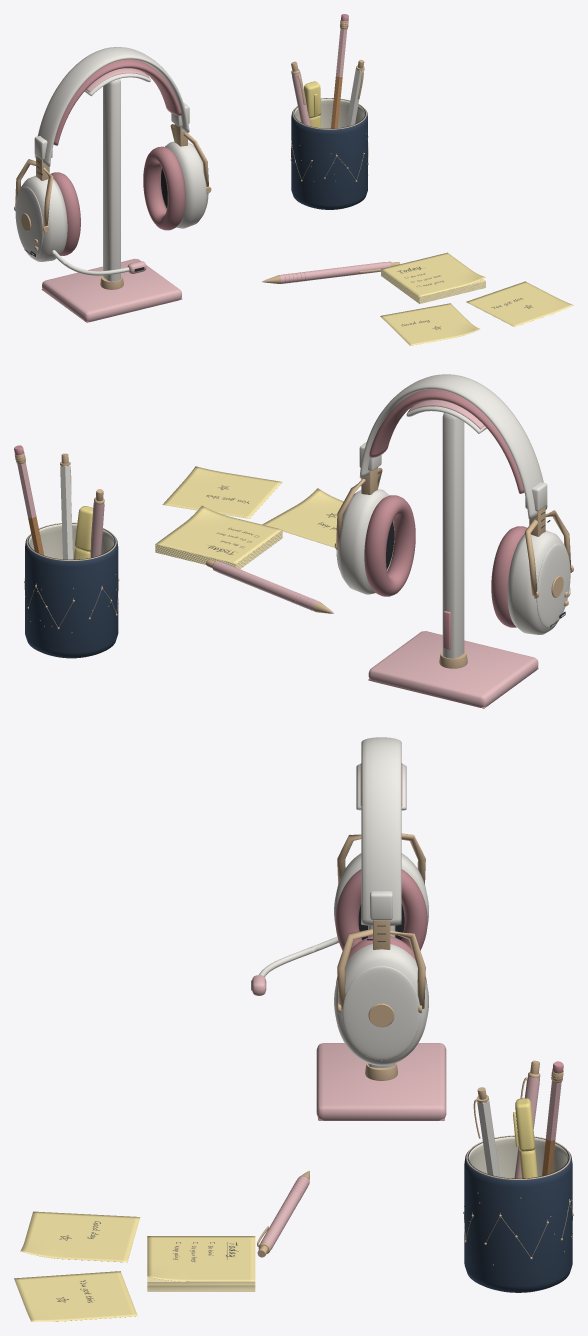
3 views of the same model, one above another, from view 1: azimuth 30°, elevation 25°; view 2: azimuth 150°, elevation 25°; view 3: azimuth 270°, elevation 25° (orthographic). The views are drawn at different scales.
Visible parts, largest first — view 1: D03_Display__D03_Hollow_Ceramic_Vessel, D02_Display__D02_Weighted_Base, D02_Display__D02_Flattened_Upright, D01_Display__D01_Headband_Shell, D01_Display__D01_R_Cushion, D08_Display__D08_Loose_You_Got_This, D08_Display__D08_Top_Curled_Sheet, D08_Display__D08_Loose_Good_Day, D01_Display__D01_L_Acoustic_Housing, D01_Display__D01_R_Acoustic_Housing, D01_Display__D01_Headband_Padded_Underside, D01_Display__D01_L_Inset_Outer_Panel (+7 smaller); view 2: D03_Display__D03_Hollow_Ceramic_Vessel, D02_Display__D02_Weighted_Base, D02_Display__D02_Flattened_Upright, D01_Display__D01_Headband_Shell, D01_Display__D01_R_Cushion, D08_Display__D08_Top_Curled_Sheet, D08_Display__D08_Loose_You_Got_This, D01_Display__D01_L_Acoustic_Housing, D01_Display__D01_R_Acoustic_Housing, D08_Display__D08_Loose_Good_Day, D01_Display__D01_Headband_Padded_Underside, D01_Display__D01_L_Inset_Outer_Panel (+10 smaller); view 3: D03_Display__D03_Hollow_Ceramic_Vessel, D02_Display__D02_Weighted_Base, D01_Display__D01_Headband_Shell, D01_Display__D01_R_Inset_Outer_Panel, D08_Display__D08_Loose_You_Got_This, D08_Display__D08_Loose_Good_Day, D08_Display__D08_Top_Curled_Sheet, D01_Display__D01_R_Acoustic_Housing, D01_Display__D01_L_Cushion, D01_Display__D01_R_Swivel_Yoke, D04_Loose_Pen_Instance__D04_Barrel, D01_Display__D01_L_Acoustic_Housing (+3 smaller).
Part boxes in pixels (<box>): D03_Display__D03_Hollow_Ceramic_Vessel: <box>291,98,367,209</box>; D02_Display__D02_Weighted_Base: <box>42,258,181,322</box>; D02_Display__D02_Flattened_Upright: <box>103,78,120,281</box>; D01_Display__D01_Headband_Shell: <box>34,47,189,166</box>; D01_Display__D01_R_Cushion: <box>143,146,185,230</box>; D08_Display__D08_Loose_You_Got_This: <box>466,281,573,326</box>; D08_Display__D08_Top_Curled_Sheet: <box>381,252,485,296</box>; D08_Display__D08_Loose_Good_Day: <box>380,303,480,345</box>; D01_Display__D01_L_Acoustic_Housing: <box>19,175,67,261</box>; D01_Display__D01_R_Acoustic_Housing: <box>161,141,207,228</box>; D01_Display__D01_Headband_Padded_Underside: <box>53,59,181,145</box>; D01_Display__D01_L_Inset_Outer_Panel: <box>15,186,43,256</box>; D03_Display__D03_Hollow_Ceramic_Vessel: <box>25,523,118,657</box>; D02_Display__D02_Weighted_Base: <box>368,631,538,707</box>; D02_Display__D02_Flattened_Upright: <box>442,413,464,658</box>; D01_Display__D01_Headband_Shell: <box>359,374,547,519</box>; D01_Display__D01_R_Cushion: <box>364,495,415,596</box>; D08_Display__D08_Top_Curled_Sheet: <box>155,505,282,563</box>; D08_Display__D08_Loose_You_Got_This: <box>162,466,282,518</box>; D01_Display__D01_L_Acoustic_Housing: <box>507,530,566,634</box>; D01_Display__D01_R_Acoustic_Housing: <box>337,489,394,594</box>; D08_Display__D08_Loose_Good_Day: <box>262,488,343,547</box>; D01_Display__D01_Headband_Padded_Underside: <box>369,389,524,493</box>; D01_Display__D01_L_Inset_Outer_Panel: <box>536,543,570,628</box>; D03_Display__D03_Hollow_Ceramic_Vessel: <box>464,1136,572,1292</box>; D02_Display__D02_Weighted_Base: <box>316,1043,446,1120</box>; D01_Display__D01_Headband_Shell: <box>361,737,401,925</box>; D01_Display__D01_R_Inset_Outer_Panel: <box>342,966,420,1060</box>; D08_Display__D08_Loose_You_Got_This: <box>14,1271,137,1321</box>; D08_Display__D08_Loose_Good_Day: <box>20,1211,140,1262</box>; D08_Display__D08_Top_Curled_Sheet: <box>147,1236,255,1281</box>; D01_Display__D01_R_Acoustic_Housing: <box>334,944,428,1065</box>; D01_Display__D01_L_Cushion: <box>335,869,427,950</box>; D01_Display__D01_R_Swivel_Yoke: <box>337,928,425,1009</box>; D04_Loose_Pen_Instance__D04_Barrel: <box>260,1176,309,1249</box>; D01_Display__D01_L_Acoustic_Housing: <box>334,853,428,926</box>.
Bounding box in the file's own units: 0.4774 × 0.2655 × 0.3885.
18 materials, 5 textured.
